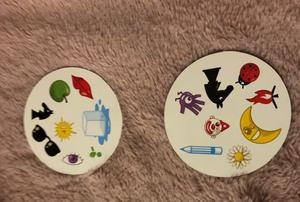bouche: (68, 73, 94, 102)
cheval: (198, 65, 237, 109), (30, 99, 57, 123)
clown: (199, 113, 231, 140)
coccinelle: (232, 61, 262, 89)
crayon: (178, 142, 225, 157)
dooble: (172, 89, 206, 118)
feu: (243, 84, 280, 109)
fleur: (224, 142, 246, 173)
glacon: (81, 97, 116, 145)
lune: (239, 106, 281, 144)
lunette: (27, 124, 64, 159)
oeuil: (59, 151, 87, 166)
pomme: (48, 77, 75, 105)
soleil: (51, 115, 79, 144)
tache: (88, 143, 103, 160)
